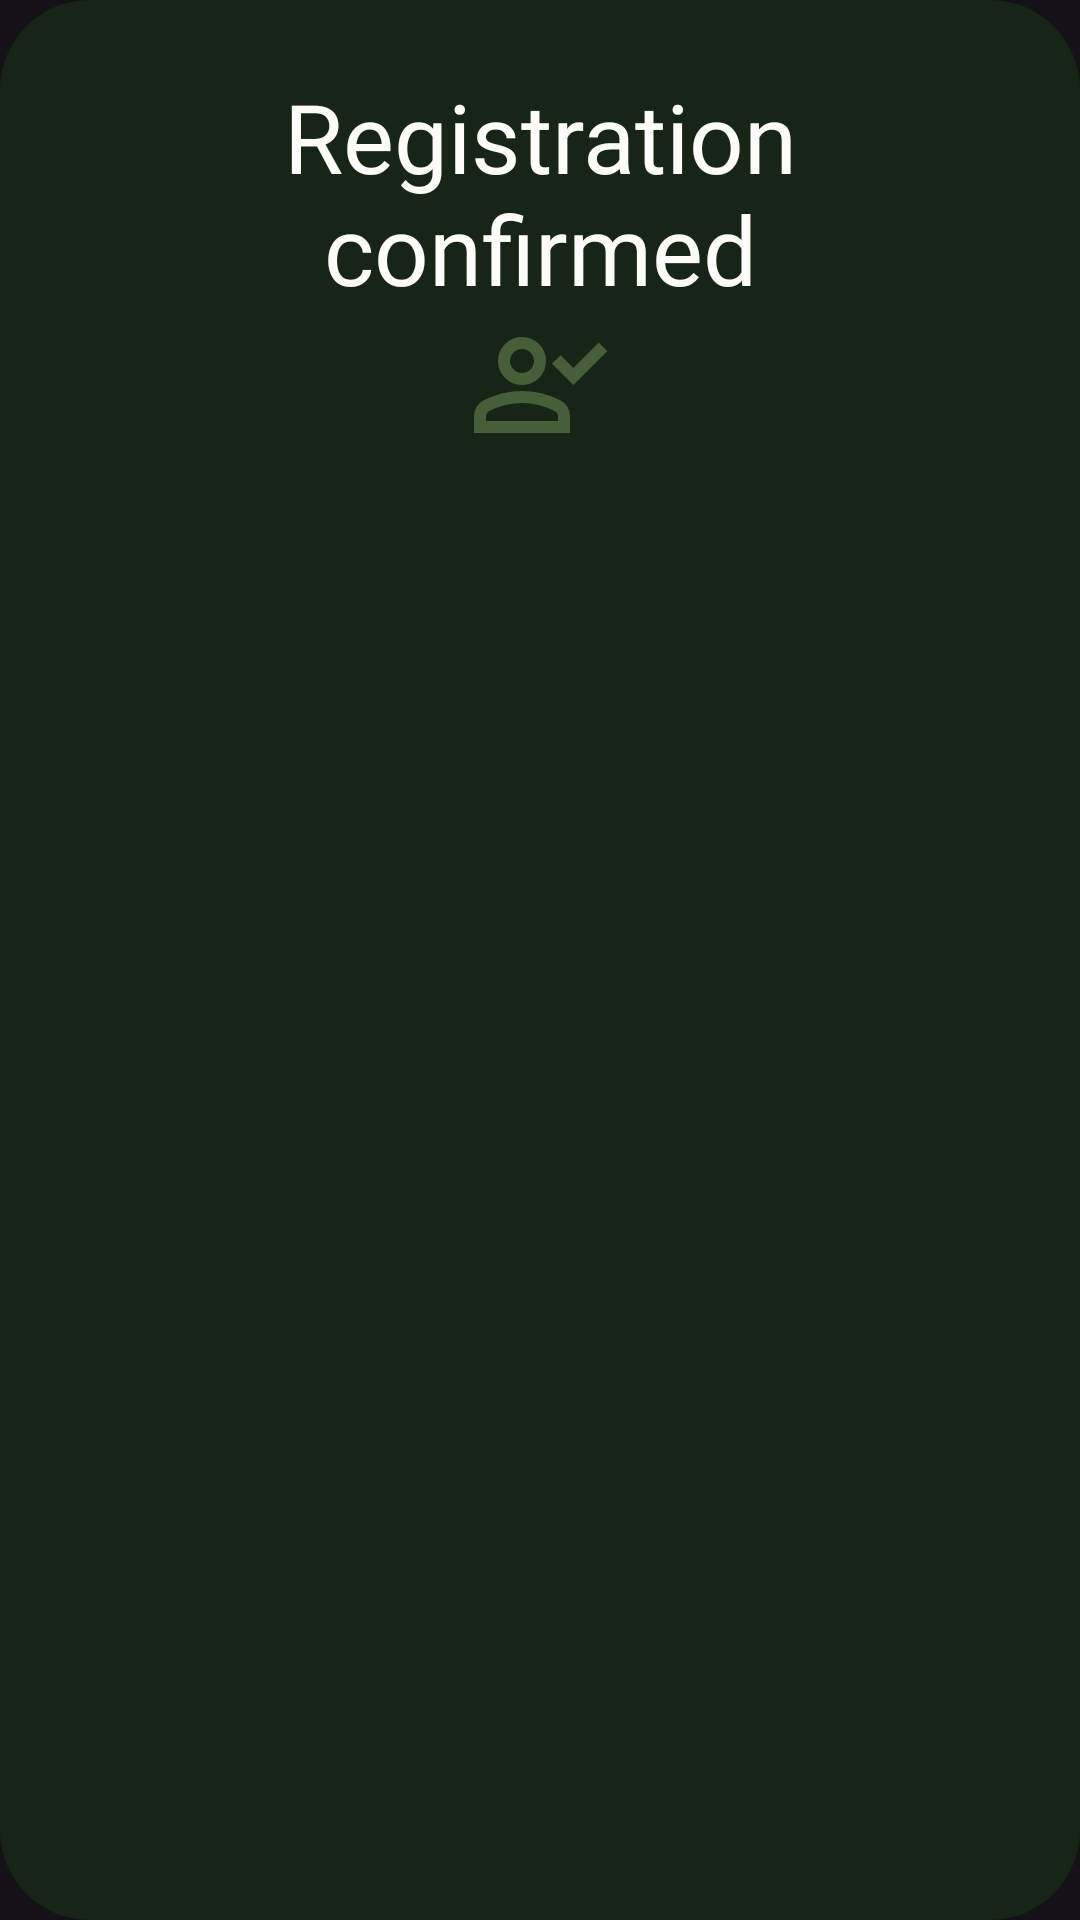

Icon click points for this 1080w x 1920h phone screenshot, format point (x, y):
Person with check symbol: point (540, 385)
